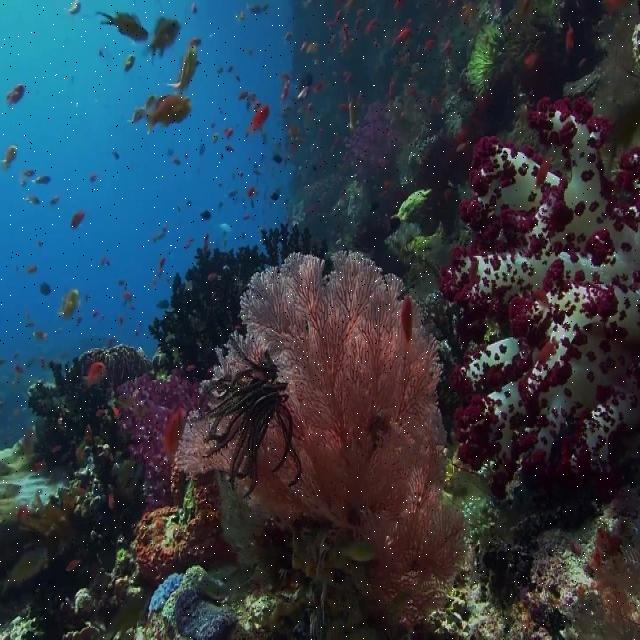fish: (130, 94, 193, 131), (165, 38, 201, 91), (143, 18, 181, 68), (94, 9, 148, 44)
reefs: (172, 248, 475, 624), (436, 92, 639, 503)
